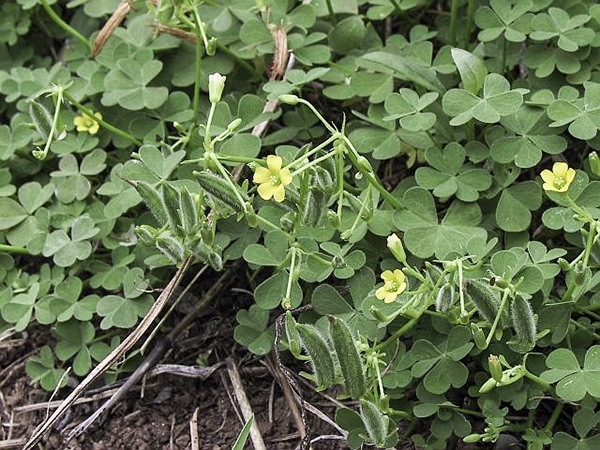oxalis: (48, 28, 593, 410)
